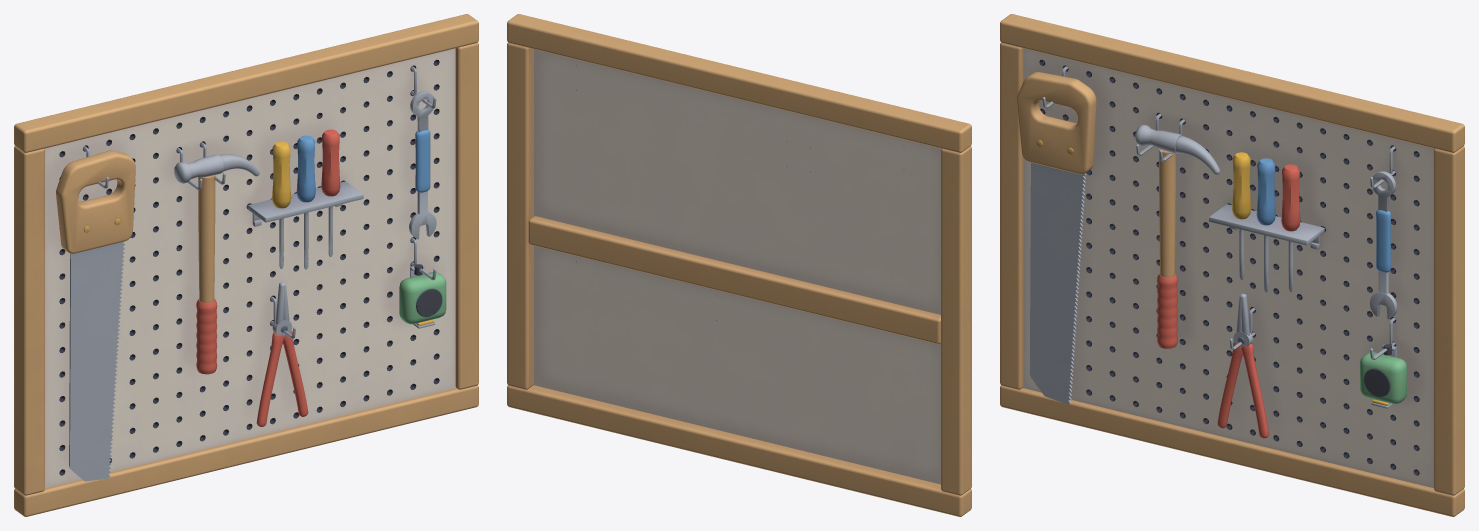
Rendered from pegboard-tool-wall.glb.
3 views of the same model, side by side, from view 1: azimuth 30°, elevation 25°; view 2: azimuth 150°, elevation 25°; view 3: azimuth 330°, elevation 25° (orthographic).
Visible parts, largest first — view 1: pegboard-tool-wall_body; view 2: pegboard-tool-wall_body; view 3: pegboard-tool-wall_body.
Part boxes in pixels (x1,y1,x2,y2): pegboard-tool-wall_body: (14, 14, 478, 516); pegboard-tool-wall_body: (507, 14, 971, 516); pegboard-tool-wall_body: (1000, 14, 1464, 516).
Size of the model in its own units: 0.74 by 0.6 by 0.0881.
1 material, 1 textured.
